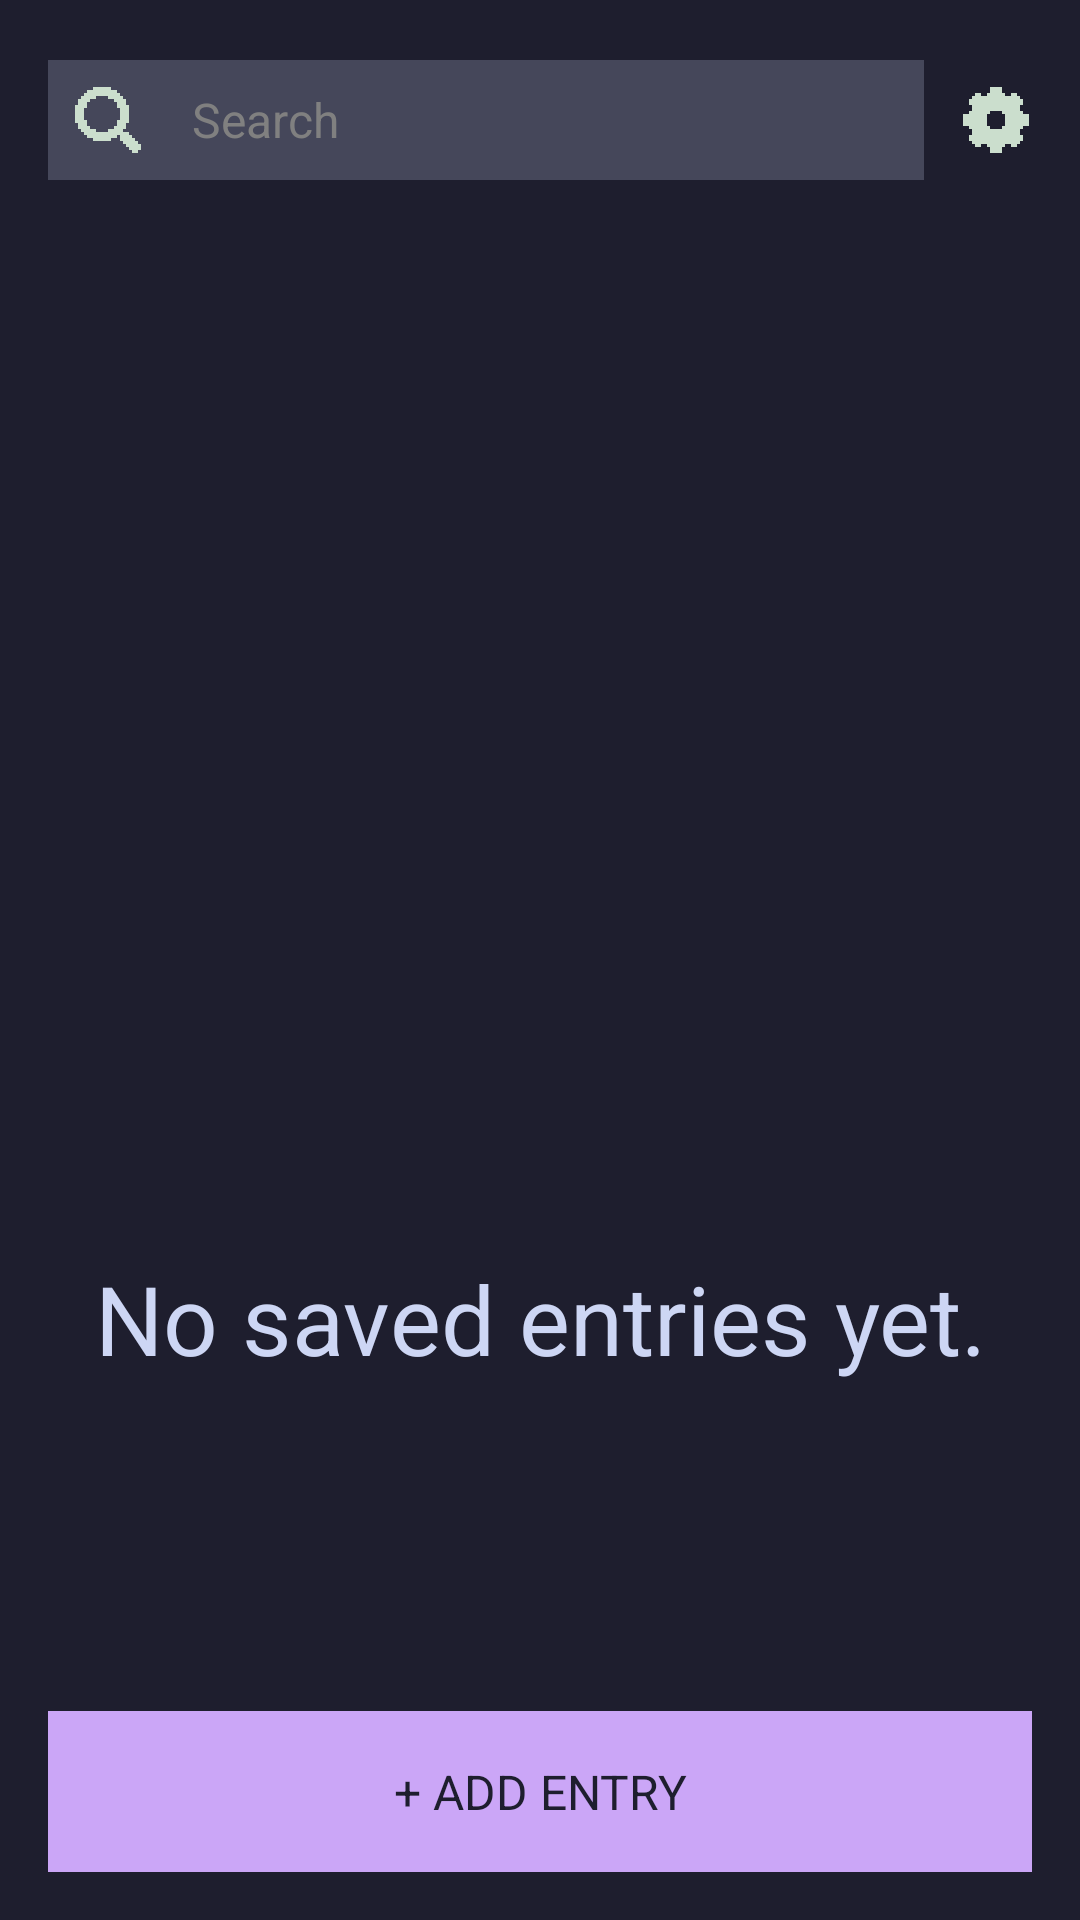

Icon click points for this 1080w x 1920h phone screenshot, format (x=x, y=y):
Open Settings: (x=996, y=120)
